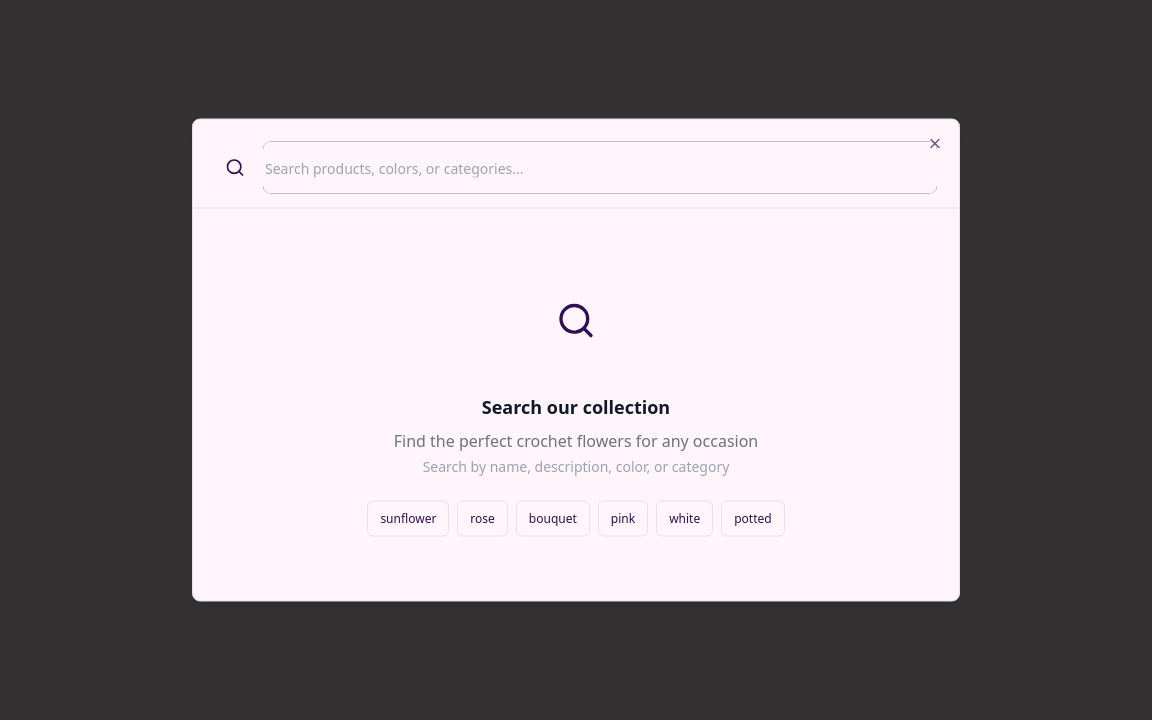
SearchModal › shows no results message when no matches found
In the field with test id "input-search": coordinates (600, 168) 265,144 -> 935,192, type "nonexistent"
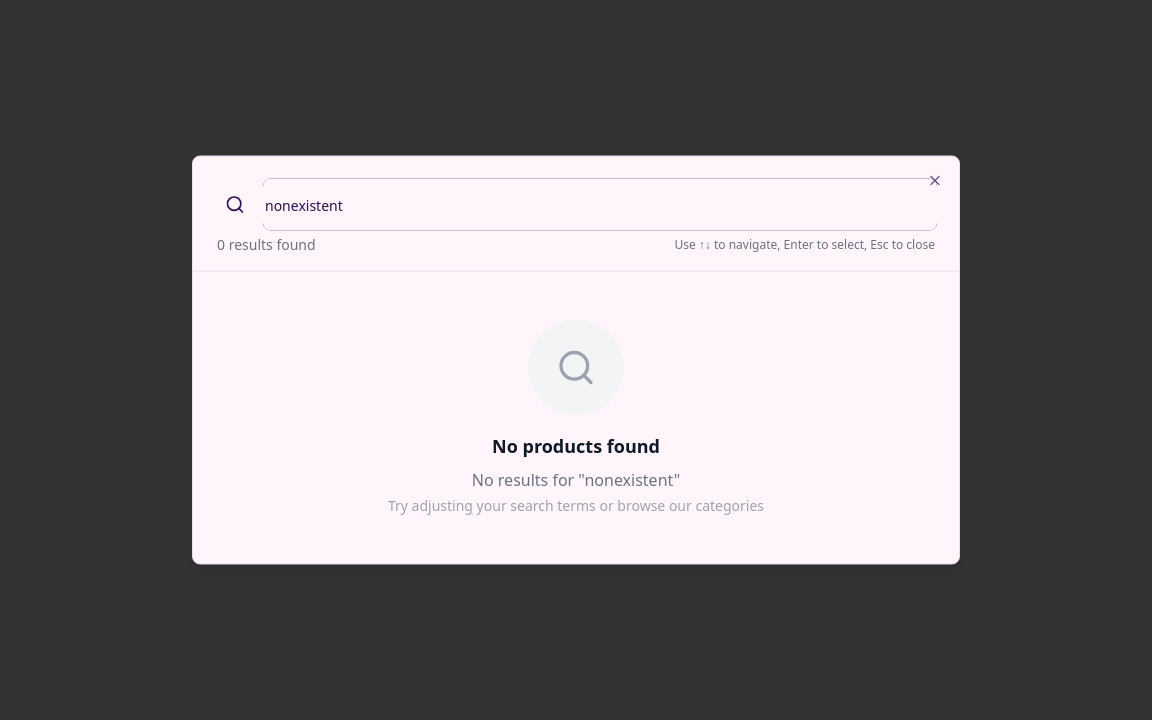
expect the heading "No products found" is shown: met, box 492,434 -> 660,458
